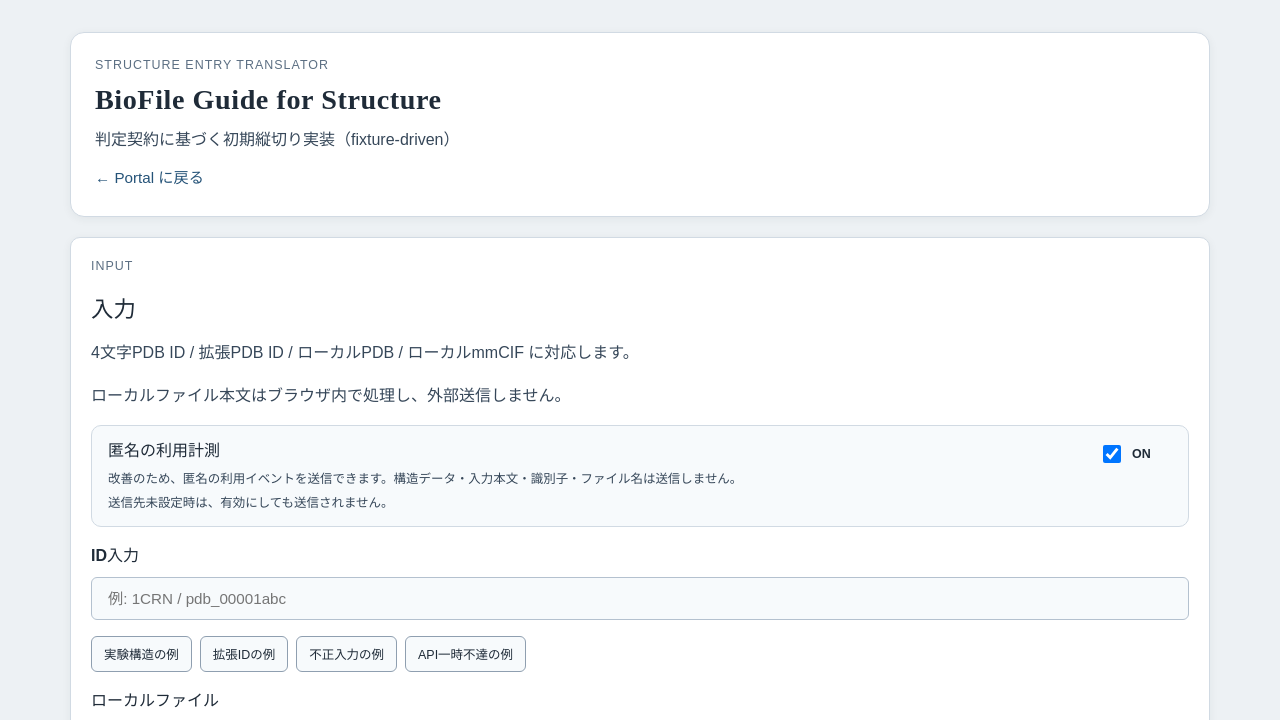
App anonymous telemetry integration › keeps UI and telemetry opt-in state consistent when opt-out write falls back
The width and height of the screenshot is (1280, 720).
Step 1. Click the switch labelled "匿名の利用計測" → (1112, 454), box [1103,445,1121,463]
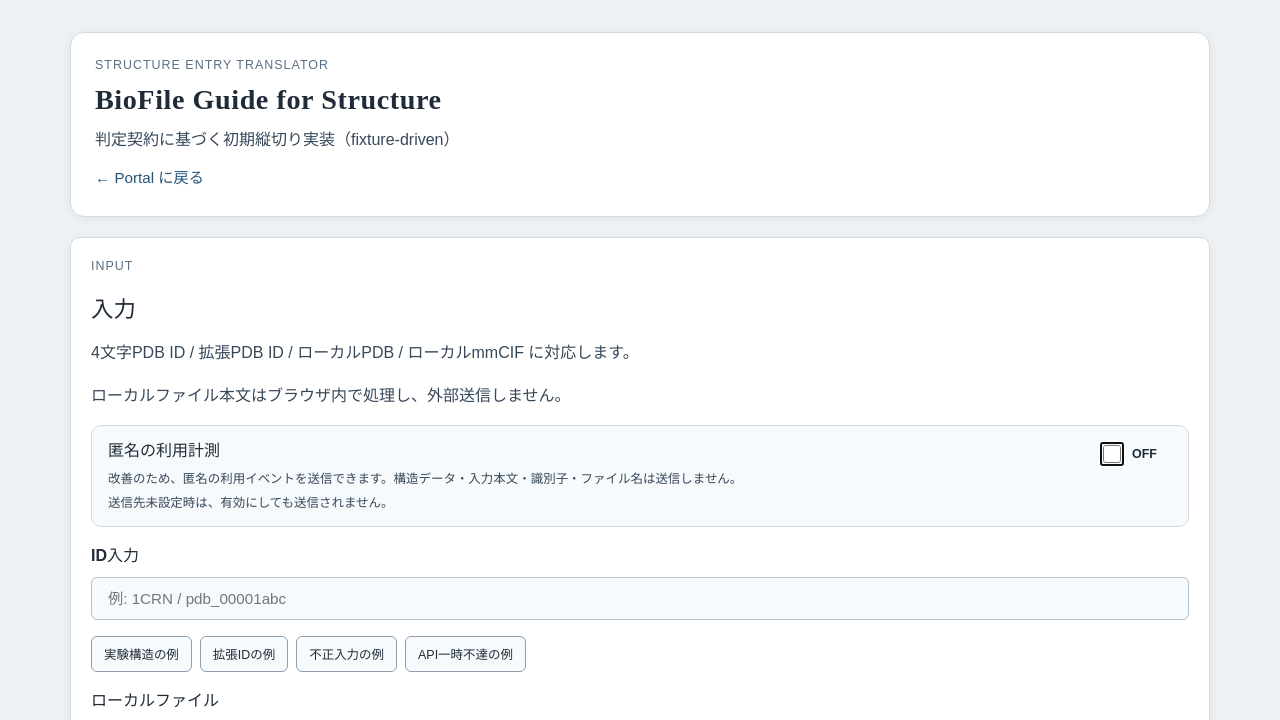
Check: the switch labelled "匿名の利用計測" is not checked, box [1103,445,1121,463]
Check: the text "OFF" is shown, box [1132,447,1157,461]
